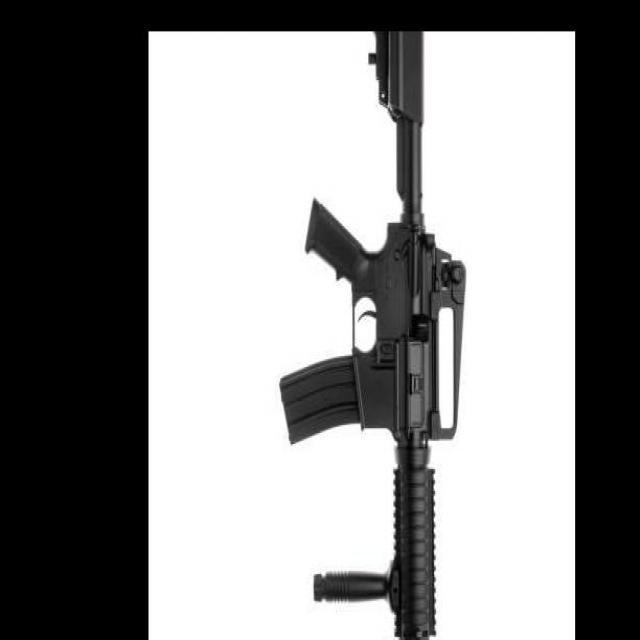weapon: (279, 31, 467, 640)
